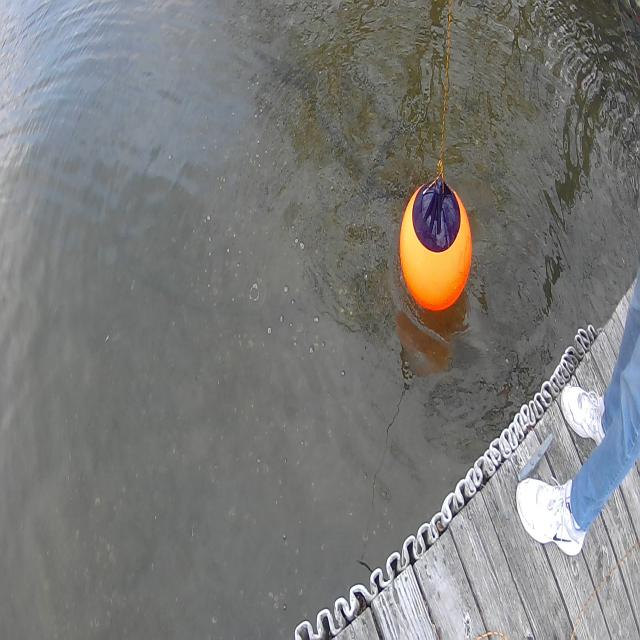Buoy: (392, 160, 484, 331)
